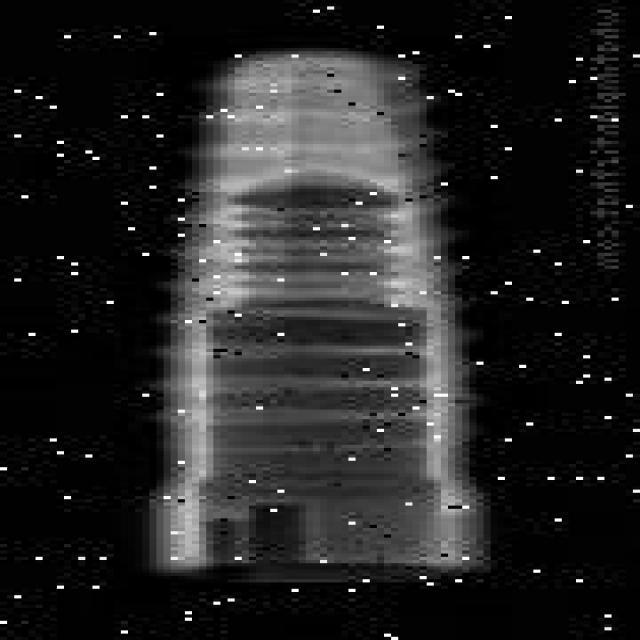Root canal obturation: (136, 40, 498, 580)
